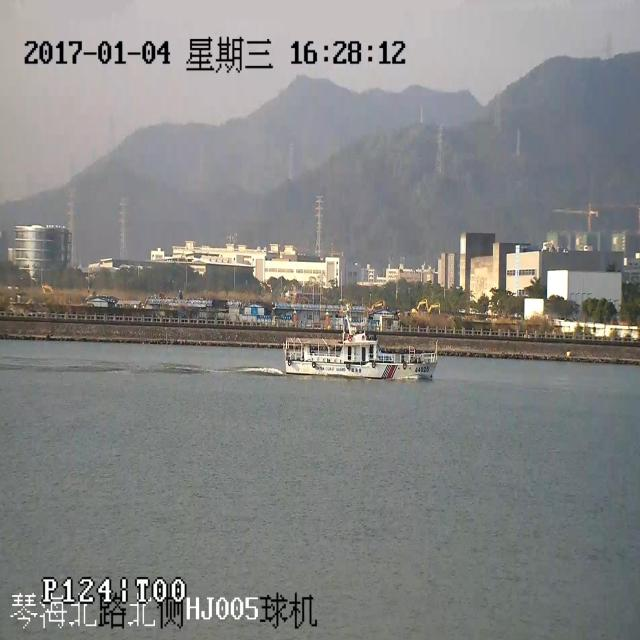houseboat: (277, 298, 444, 388)
